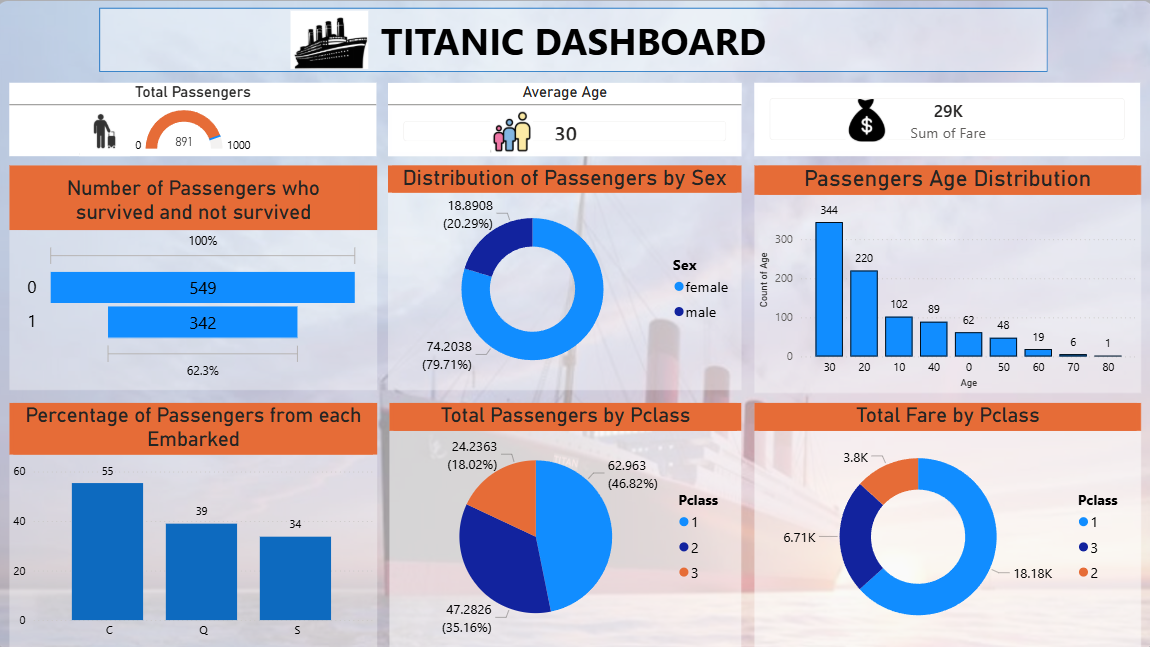

This screenshot's page, from the dashboard's own definition file:
{"tool":"powerbi","page":{"name":"Page 1","canvas":[1280,720],"ordinal":0},"visuals":[{"type":"donutChart","title":"Distribution of Passengers by Sex","fields":{"Category":["Gender wise survival.Sex"],"Y":["Avg(Gender wise survival.survival_rate)"]},"box":[433.6,185.2,392.5,249.7],"z":0},{"type":"columnChart","title":"Passengers Age Distribution","fields":{"Category":["Titanic-Dataset (2).Age (bins)"],"Y":["CountNonNull(Titanic-Dataset (2).Age)"]},"box":[839.8,185.2,429.5,252.5],"z":1000},{"type":"columnChart","title":"Percentage of Passengers from each Embarked","fields":{"Category":["High survival for boarding.Embarked"],"Y":["Sum(High survival for boarding.survival_rate)"]},"box":[12.3,448.7,408.9,271.7],"z":2000},{"type":"funnel","title":"Number of Passengers who survived and not survived","fields":{"Category":["Survival rate.Survived"],"Y":["Sum(Survival rate.total)"]},"box":[12.3,185.2,408.9,249.7],"z":3000},{"type":"pieChart","title":" Total Passengers by Pclass","fields":{"Category":["Pclass have survival rate.Pclass"],"Y":["Sum(Pclass have survival rate.survival_rate)"]},"box":[435,448.7,391.1,271.7],"z":4000},{"type":"donutChart","title":"Total Fare by Pclass","fields":{"Category":["Titanic-Dataset (2).Pclass"],"Y":["Sum(Titanic-Dataset (2).Fare)"]},"box":[839.8,448.7,429.5,271.7],"z":5000},{"type":"shape","box":[112.5,9.6,1053.9,71.4],"z":6000},{"type":"image","box":[325.2,9.6,86.4,71.4],"z":7000},{"type":"gauge","title":"Total Passengers","fields":{"Y":["CountNonNull(Titanic-Dataset (2).PassengerId)"]},"box":[12.5,93.1,408.3,81.9],"z":8000},{"type":"cardVisual","title":"Average Age","fields":{"Data":["Avg(Titanic-Dataset (2).Age)"]},"box":[433.3,93.1,393.1,81.9],"z":9000},{"type":"cardVisual","fields":{"Data":["Sum(Titanic-Dataset (2).Fare)"]},"box":[840.3,93.1,429.2,81.9],"z":10000},{"type":"image","box":[33.3,119.4,169.4,55.6],"z":14000},{"type":"image","box":[815.3,111.1,300,47.2],"z":15000},{"type":"image","box":[420.8,123.6,300,47.2],"z":16000}]}

Visuals, with their boxes in screenshot pixels (x1, y1, x2, y2), scaled from the page's 1280x720 canvas onto the 1150x647 screenshot:
"Distribution of Passengers by Sex" donutChart: [390, 166, 742, 391]
"Passengers Age Distribution" columnChart: [755, 166, 1140, 393]
"Percentage of Passengers from each Embarked" columnChart: [11, 403, 378, 646]
"Number of Passengers who survived and not survived" funnel: [11, 166, 378, 391]
" Total Passengers by Pclass" pieChart: [391, 403, 742, 646]
"Total Fare by Pclass" donutChart: [755, 403, 1140, 646]
shape: [101, 9, 1048, 73]
image: [292, 9, 370, 73]
"Total Passengers" gauge: [11, 84, 378, 157]
"Average Age" cardVisual: [389, 84, 742, 157]
cardVisual - Sum(Titanic-Dataset (2).Fare): [755, 84, 1141, 157]
image: [30, 107, 182, 157]
image: [732, 100, 1002, 142]
image: [378, 111, 648, 153]
